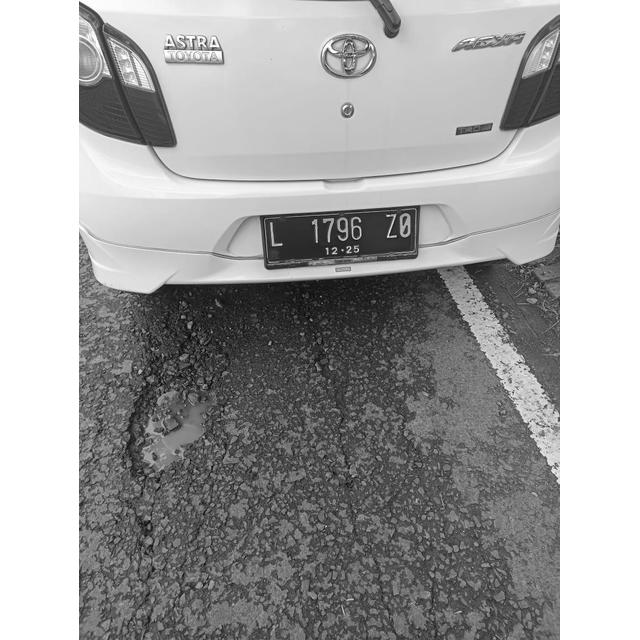license: (265, 209, 412, 256)
